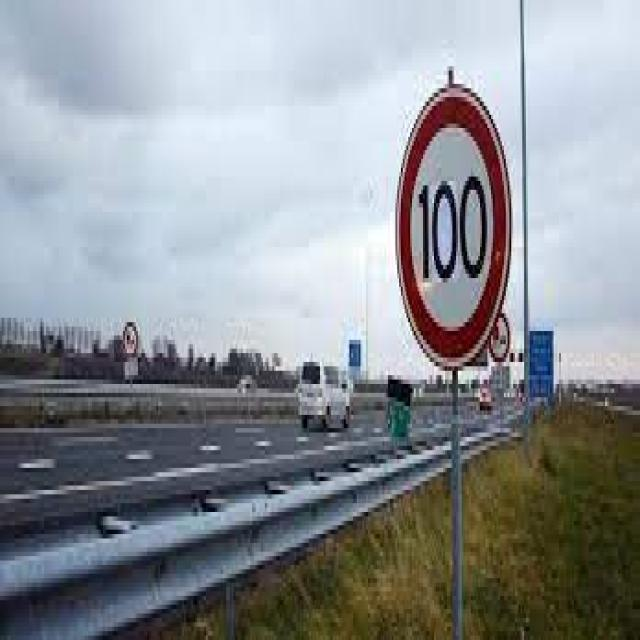SPEED_LIMIT_100: (394, 79, 515, 371)
